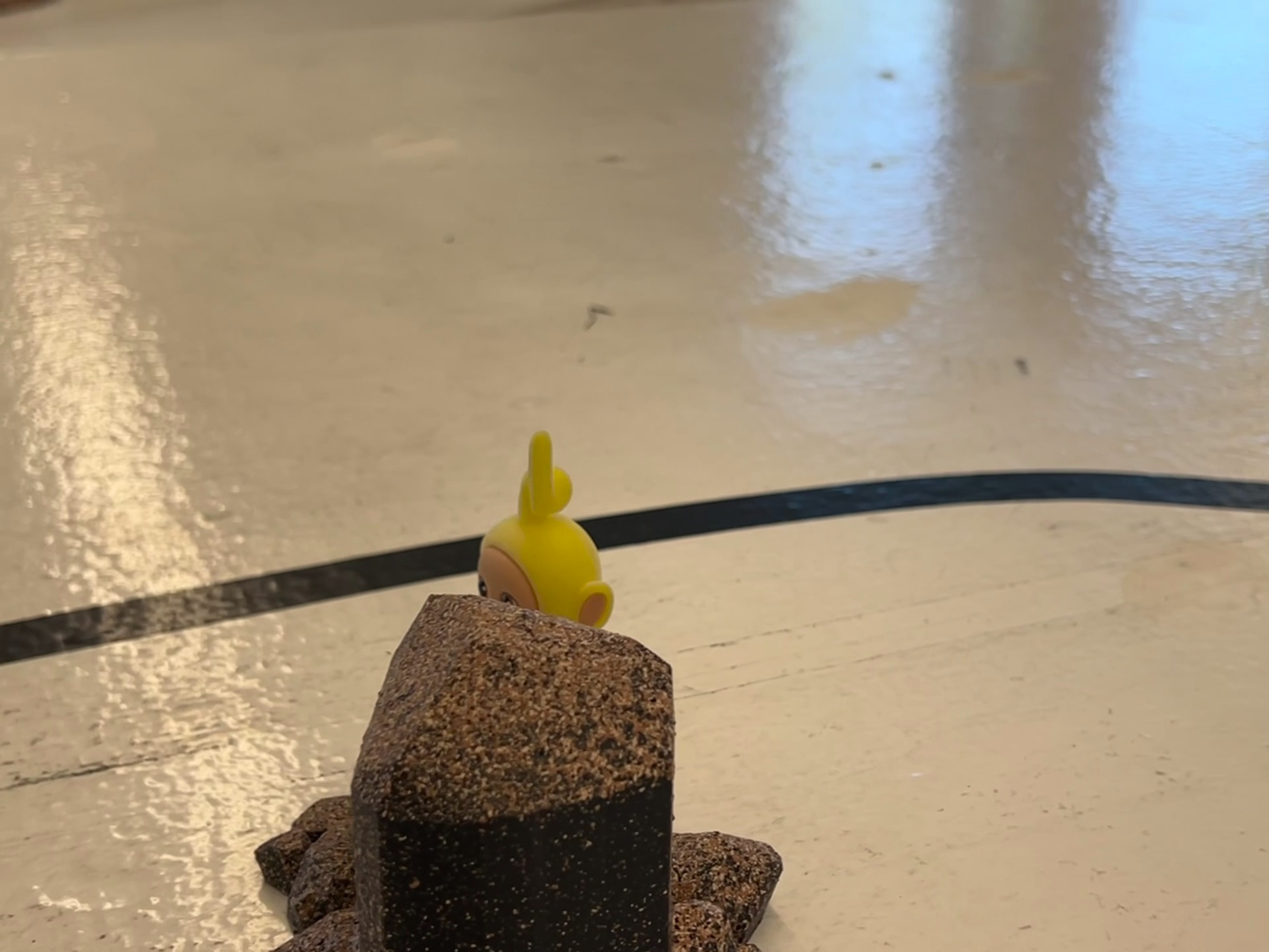teletubby: (477, 432, 613, 627)
